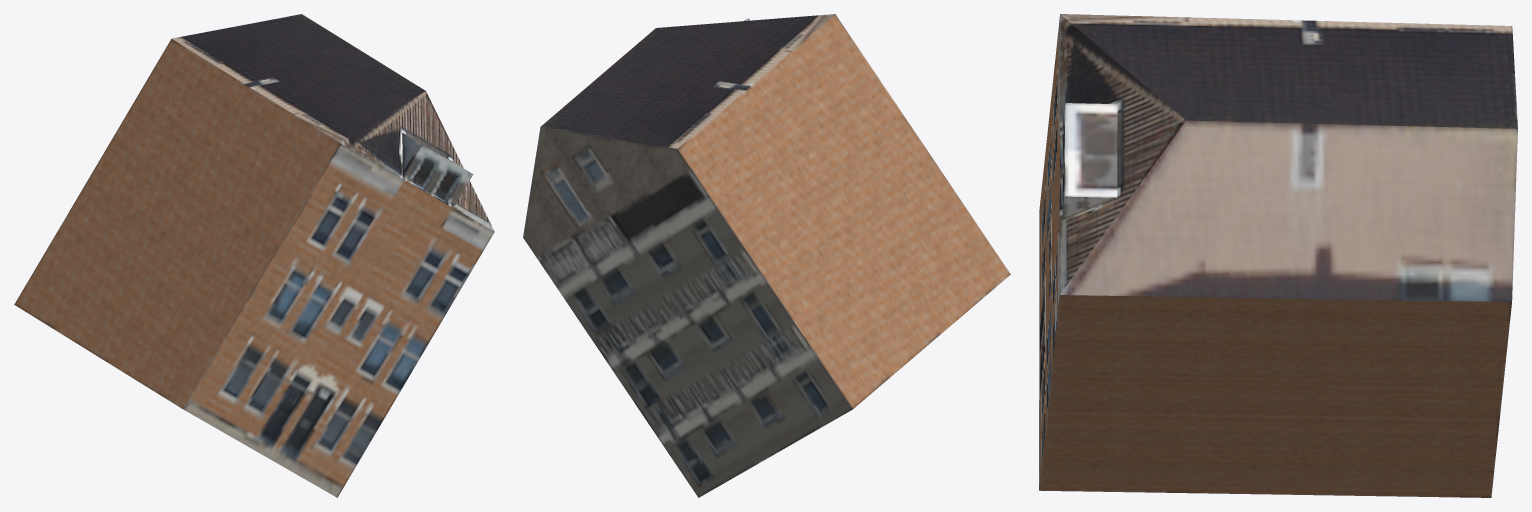
3 renders of one model, left to right at view 1: azimuth 30°, elevation 25°; view 2: azimuth 150°, elevation 25°; view 3: azimuth 270°, elevation 25°, orthographic. The views are drawn at different scales.
Parts seen in each view (by area): view 1: BAG_0599100000760398 (×2); view 2: BAG_0599100000760398; view 3: BAG_0599100000760398 (×3).
Boxes of the visible parts, bbox=[...] form: BAG_0599100000760398 (×2): bbox=[14, 14, 494, 497]; BAG_0599100000760398: bbox=[523, 14, 1010, 497]; BAG_0599100000760398 (×3): bbox=[1039, 14, 1517, 497].
Bounding box in the file's own units: 13.58 × 14.2 × 12.38.
Materials: 1 (1 with a texture image).
